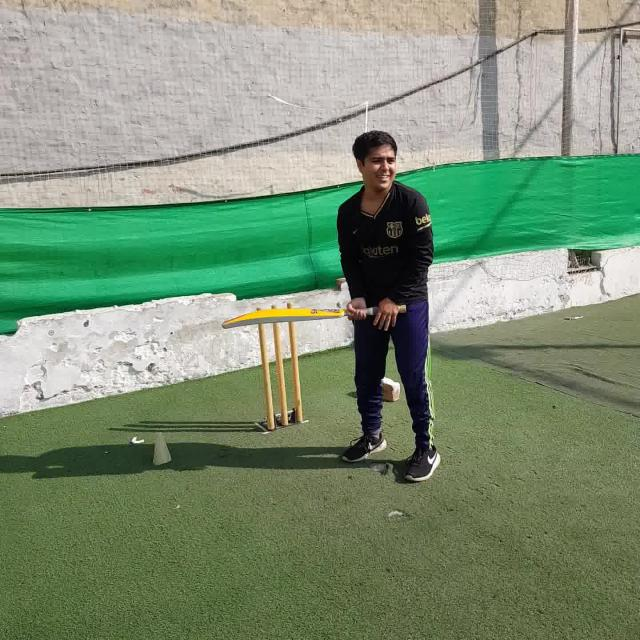bat: (221, 304, 407, 328)
